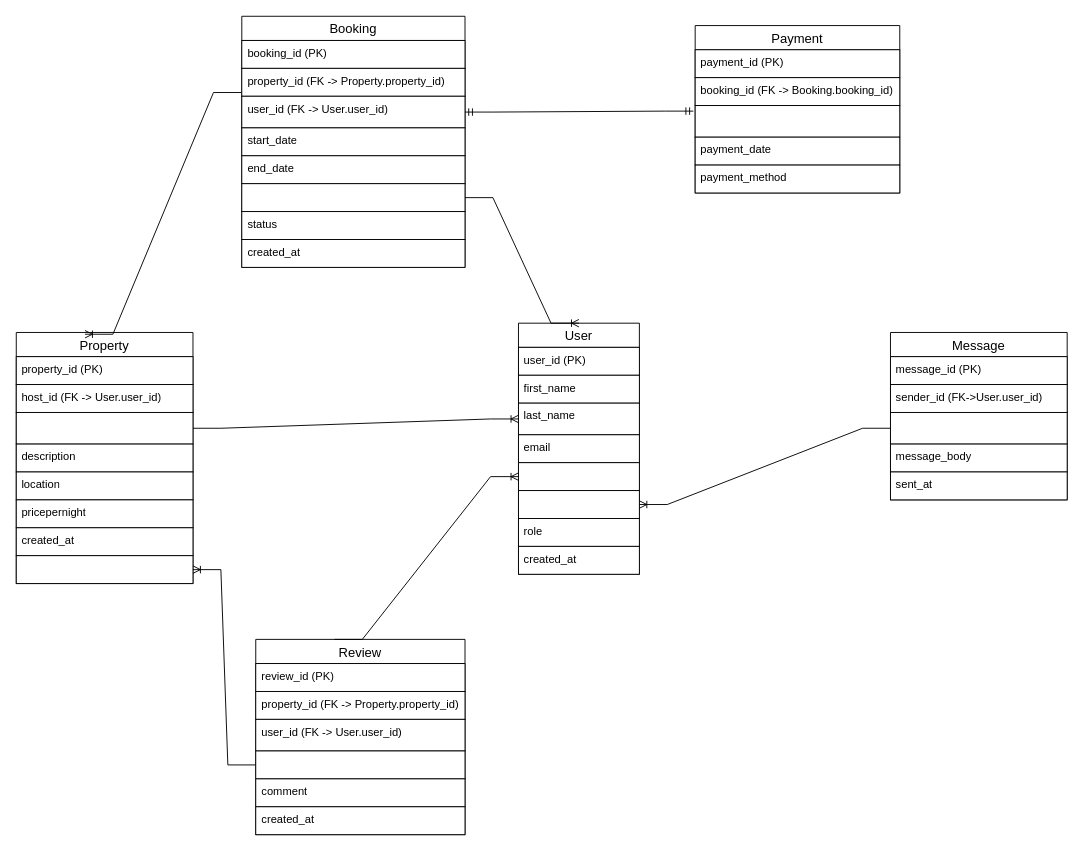
Image size: 1083x854. Some labels were removed from this diagram. Here are the shapes that lost their labels. From the top down, the centre of each, then its label:
(x=797, y=121): amount
(x=353, y=197): total_price
(x=104, y=428): name
(x=978, y=428): recipient_id (FK->User.user_id)
(x=578, y=476): password_hash
(x=578, y=504): phone_number
(x=104, y=569): updated_at
(x=360, y=764): rating
